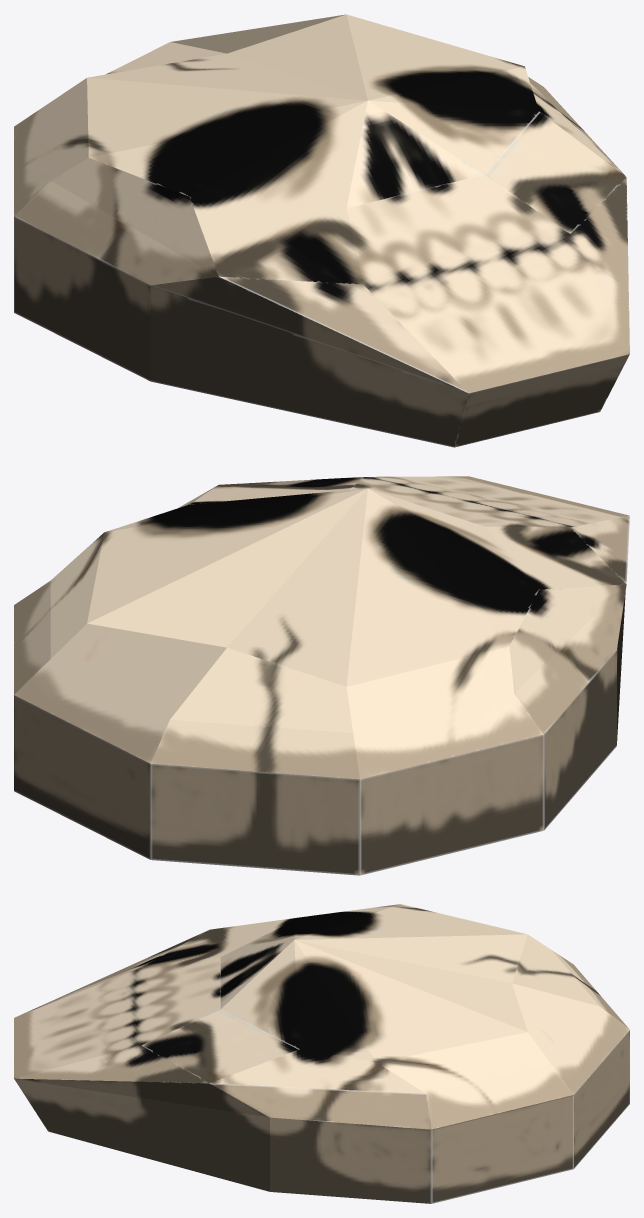
Rendered from Craneo.fbx.
3 renders of one model, top to bottom at view 1: azimuth 30°, elevation 25°; view 2: azimuth 150°, elevation 25°; view 3: azimuth 270°, elevation 25°, orthographic. The views are drawn at different scales.
Parts seen in each view (by area): view 1: cylinder; view 2: cylinder; view 3: cylinder.
Boxes of the visible parts, <box> form: cylinder: <box>14,14,629,447</box>; cylinder: <box>14,476,629,875</box>; cylinder: <box>14,904,629,1203</box>.
Bounding box in the file's own units: 1751106 × 670886 × 2281465.
1 material, 1 textured.
